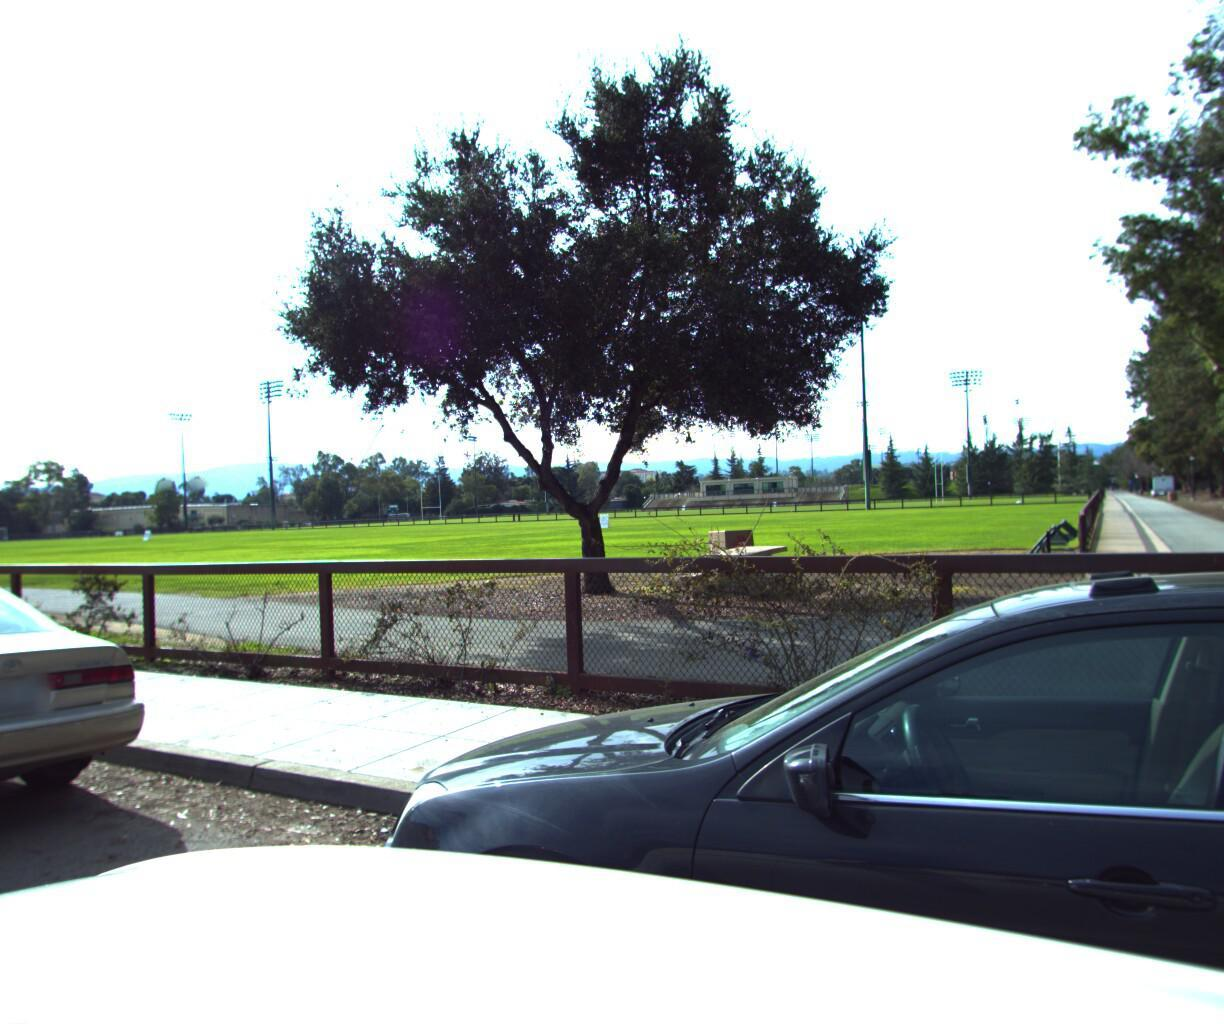car: (197, 530, 1224, 1024), (0, 563, 167, 903)
